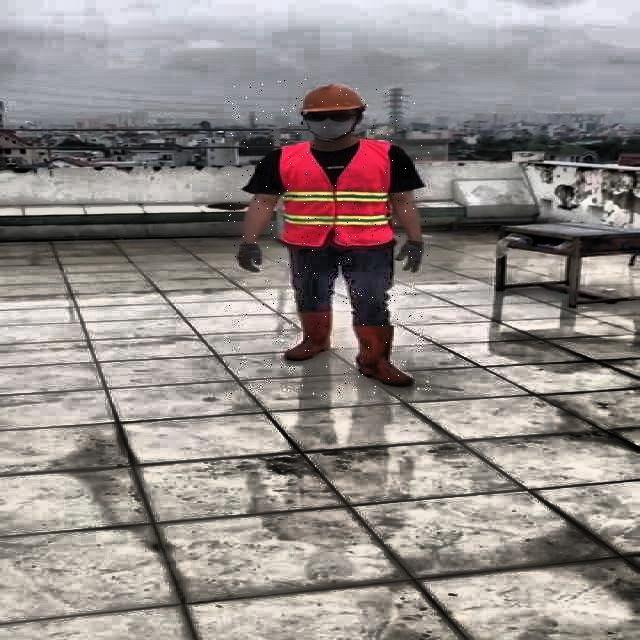safety_helmet: (297, 80, 367, 114)
safety_jacket: (276, 140, 398, 246)
